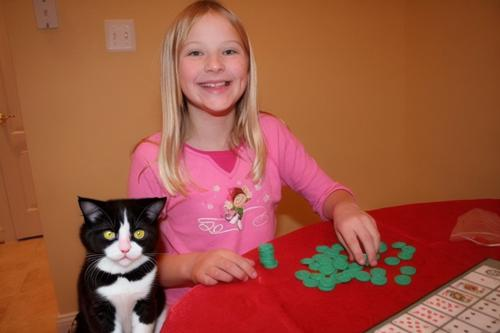cat: (76, 197, 167, 333)
person: (127, 3, 382, 287)
person/hand: (185, 249, 258, 287), (333, 210, 380, 266)
person/head: (173, 1, 249, 113)
